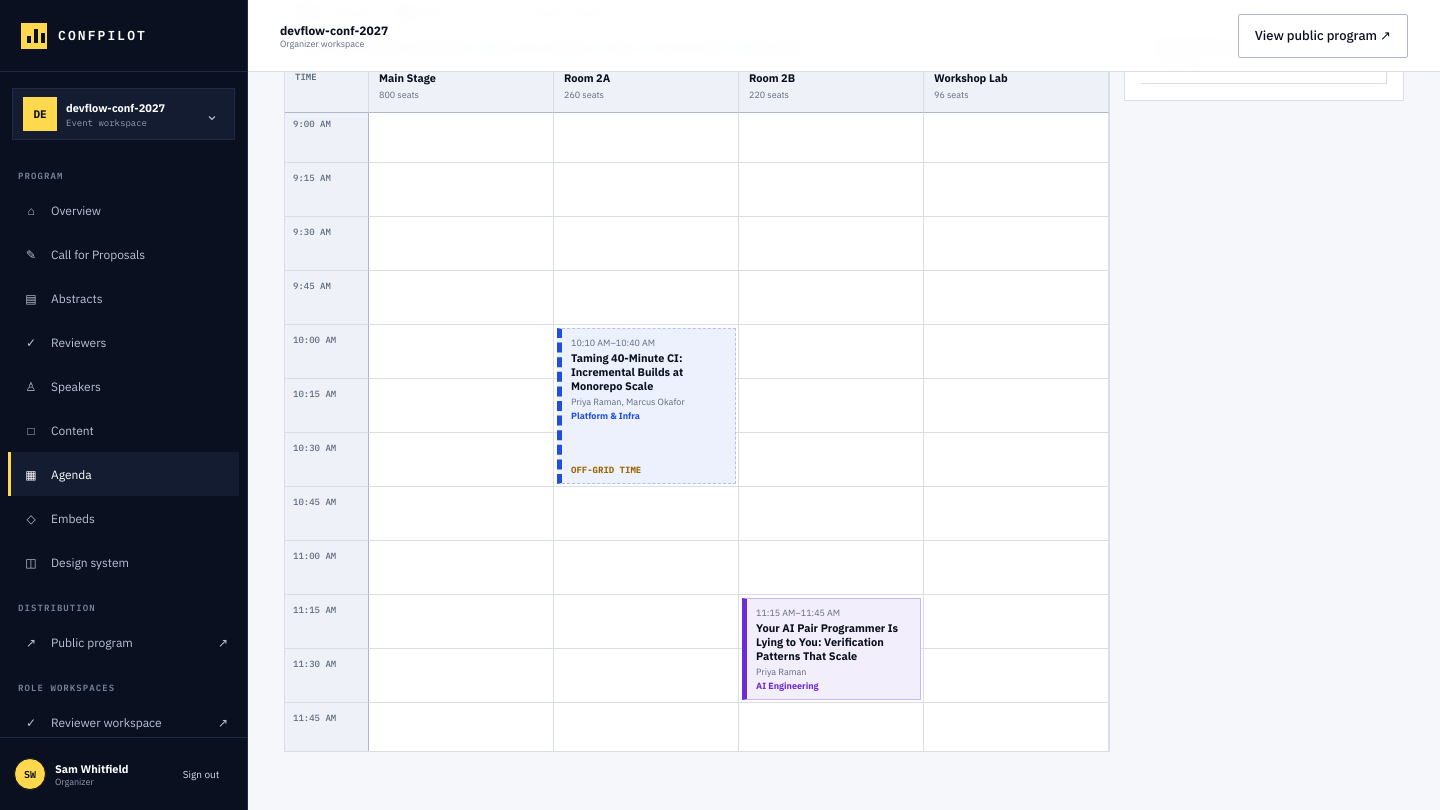
it: ConfPilot Phase 0 shell › renders and preserves an off-grid unscoped placement for correction
The image size is (1440, 810).
(page scrolled)
Click the button that starts with "10:10 AM" at (646, 406), box 557,328 -> 736,484
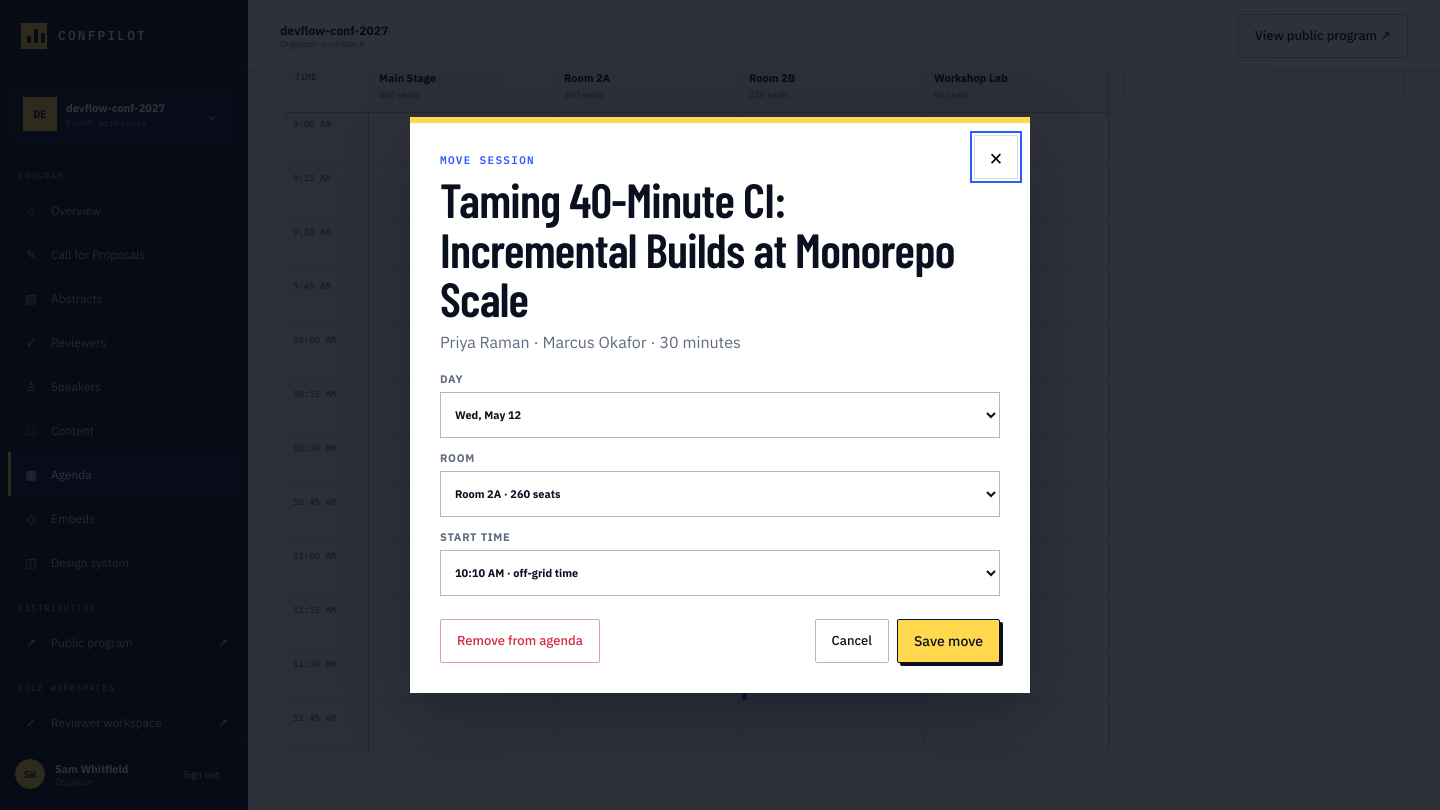
expect the dropdown labelled "Start time" shows "10:10 AM · off-grid time": met, box 440,550 -> 1000,596
